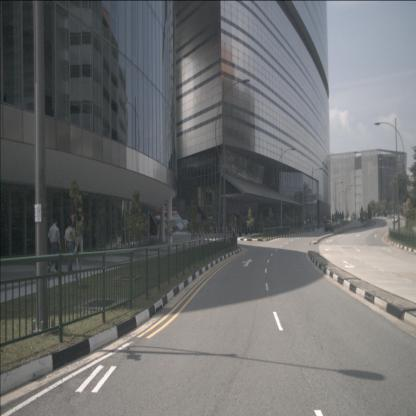human-pedestrian-adult: (48, 216, 62, 277), (64, 218, 78, 275), (71, 215, 85, 260), (229, 220, 231, 233)
vehicle-car: (324, 219, 334, 232)
